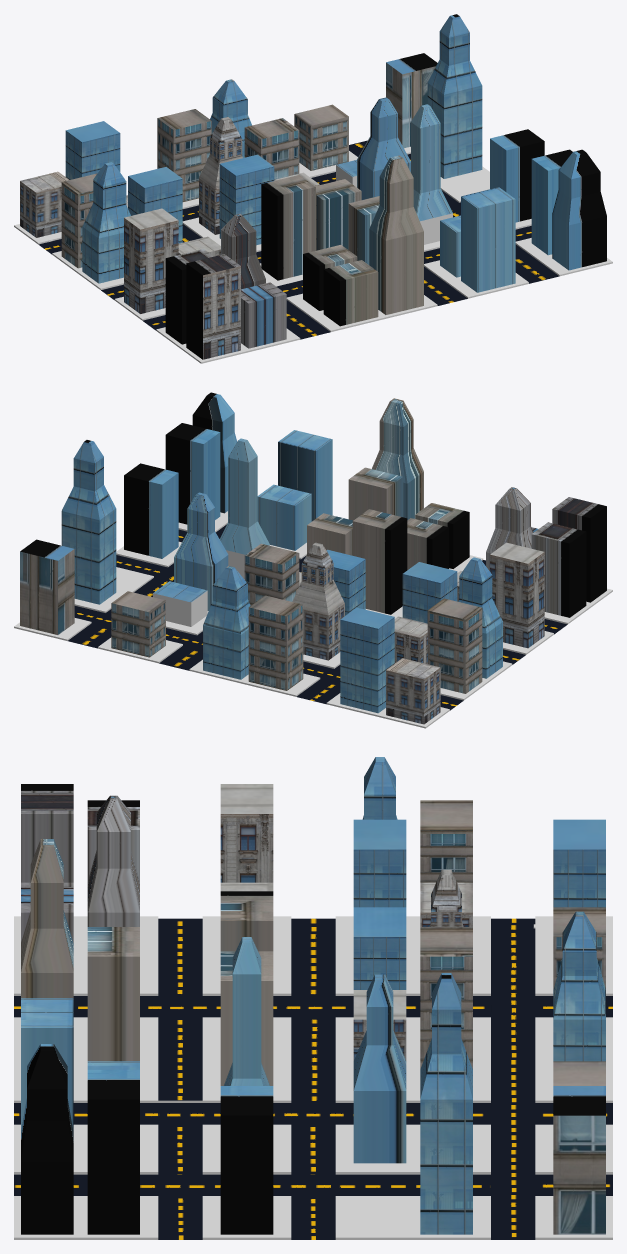
File: cidade_contraTempo.glb
3 views of the same model, one above another, from view 1: azimuth 30°, elevation 25°; view 2: azimuth 150°, elevation 25°; view 3: azimuth 270°, elevation 25° (orthographic). The views are drawn at different scales.
Parts seen in each view (by area): view 1: predios, Plane, ruas; view 2: predios, Plane, ruas; view 3: predios, ruas, Plane.
Boxes of the visible parts, <box> form: predios: <box>20,14,606,359</box>; Plane: <box>14,146,612,363</box>; ruas: <box>38,140,559,339</box>; predios: <box>20,392,606,724</box>; Plane: <box>14,511,612,728</box>; ruas: <box>68,524,567,710</box>; predios: <box>21,757,605,1234</box>; ruas: <box>14,918,612,1239</box>; Plane: <box>14,916,612,1239</box>.
Bounding box in the file's own units: 435 × 155 × 343.
3 materials, 2 textured.
